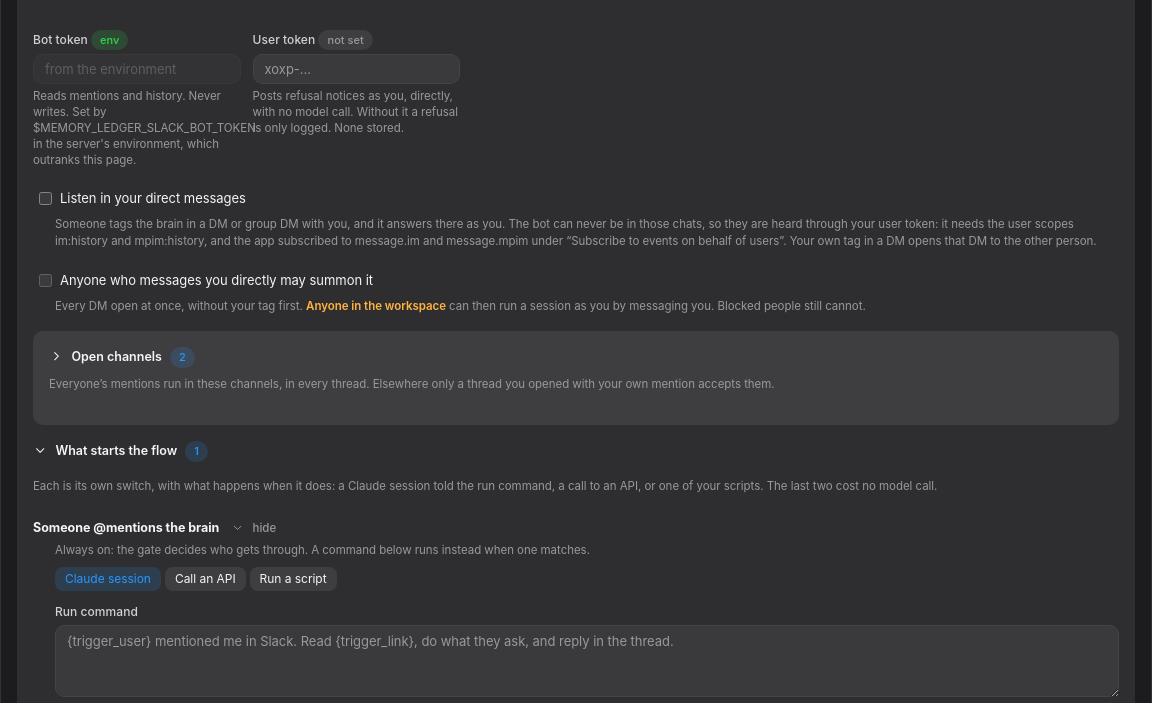
Scenario: Triggers › keeps the channel list folded until it is clicked open
The width and height of the screenshot is (1152, 703).
(page scrolled)
expect the text "2" is shown: met, box [170, 347, 195, 368]
Step 1. Click the button "Open channels 2" → (122, 358), box [49, 347, 195, 368]
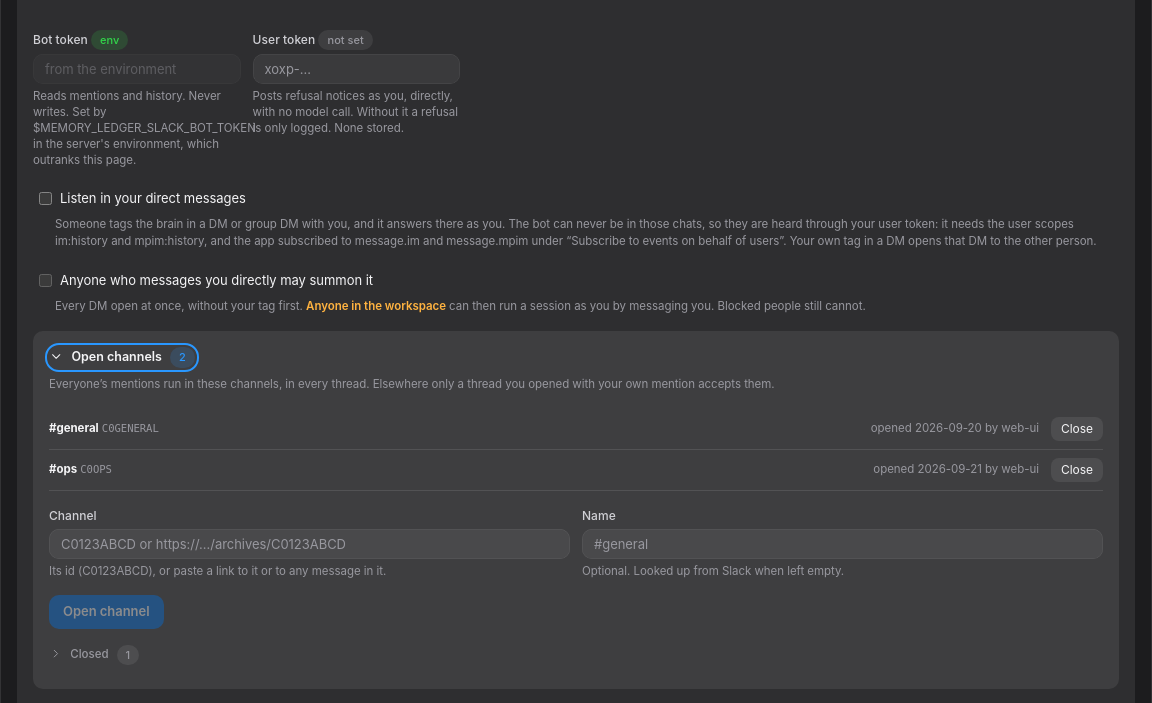
expect the text "#general" is shown: met, box [49, 421, 99, 435]
expect the text "#ops" is shown: met, box [49, 462, 77, 476]
